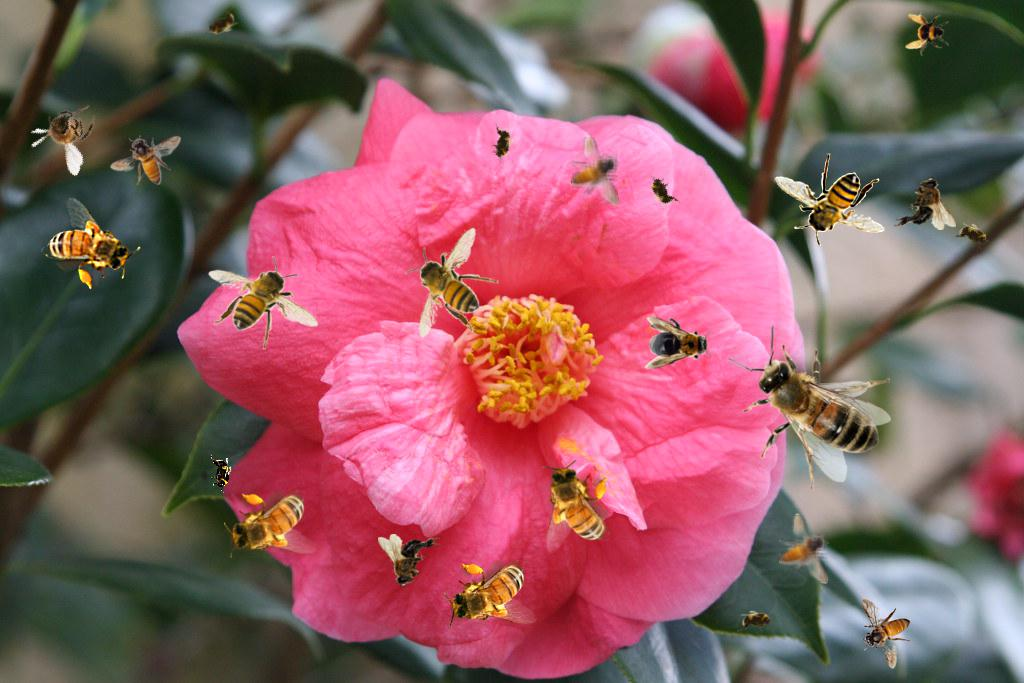Bee: (727, 323, 892, 493), (30, 191, 146, 304), (208, 256, 319, 350), (774, 153, 885, 247), (405, 227, 499, 338), (21, 87, 108, 177), (224, 490, 317, 558), (542, 460, 610, 553), (444, 560, 537, 628), (861, 598, 911, 669), (110, 135, 181, 185), (570, 135, 620, 206), (779, 513, 829, 584), (645, 317, 713, 369), (894, 177, 956, 230), (378, 534, 440, 587), (905, 12, 949, 56), (951, 216, 997, 256), (642, 168, 682, 214), (198, 5, 244, 43), (486, 122, 518, 166), (210, 454, 232, 494), (737, 610, 777, 632)
